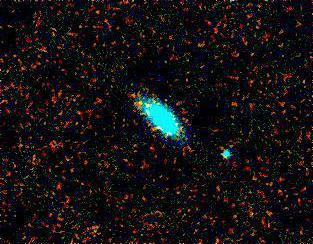star: (125, 88, 155, 118)
